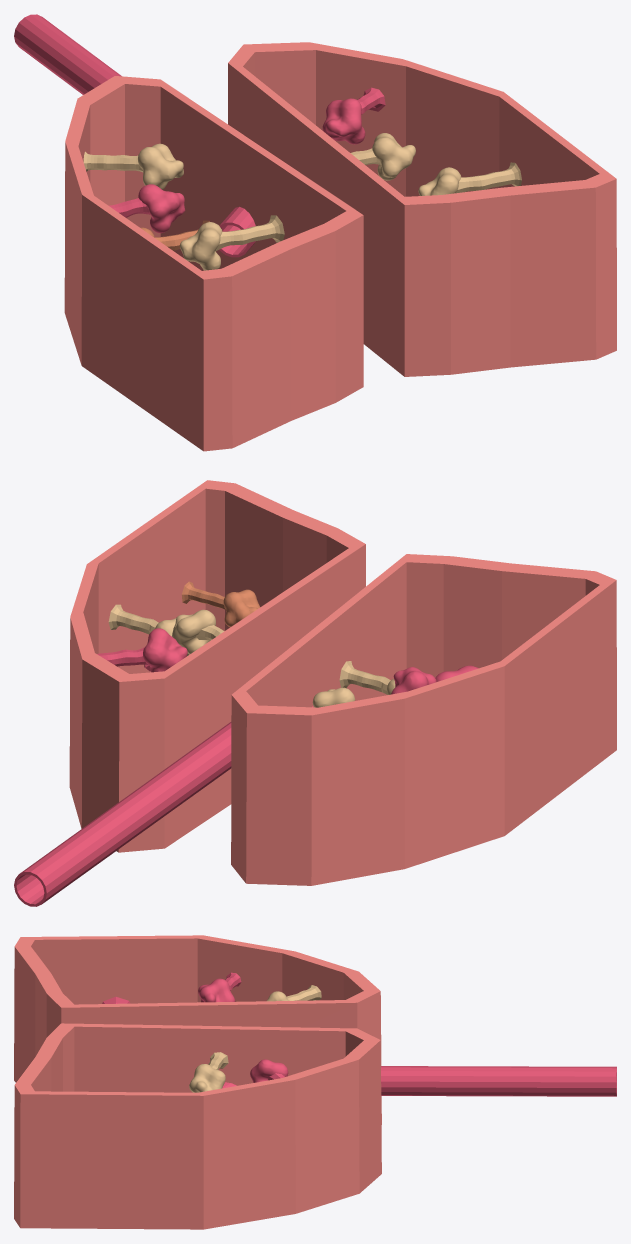
The model's file is Lung.fbx.
The picture shows the model from 3 angles, top to bottom: view 1: azimuth 30°, elevation 25°; view 2: azimuth 150°, elevation 25°; view 3: azimuth 270°, elevation 25°; orthographic projection. The views are drawn at different scales.
Visible parts, largest first — view 1: Plane.001, Plane, Cylinder.002, Cube.006, Cube.005, Cube.002, Cube.007, Cube.001, Cube.003; view 2: Plane, Plane.001, Cylinder.002, Cube.002, Mball.002, Cube.003, Cube.001, Cube.006, Cube.007, Cube.005; view 3: Plane.001, Plane, Cylinder.002, Cube.003, Cube.007, Cube.002, Cube.005.
Part boxes in pixels (x1,y1,x2,y2): Plane.001: [228, 42, 616, 376]; Plane: [64, 76, 363, 451]; Cylinder.002: [14, 14, 255, 257]; Cube.006: [180, 215, 284, 270]; Cube.005: [83, 143, 183, 189]; Cube.002: [322, 87, 385, 144]; Cube.007: [109, 184, 185, 233]; Cube.001: [418, 162, 521, 195]; Cube.003: [350, 133, 415, 180]; Plane: [231, 554, 616, 885]; Plane.001: [69, 480, 365, 852]; Cylinder.002: [14, 705, 313, 906]; Cube.002: [97, 628, 187, 672]; Mball.002: [181, 581, 260, 627]; Cube.003: [172, 609, 224, 654]; Cube.001: [108, 604, 188, 656]; Cube.006: [339, 661, 395, 694]; Cube.007: [391, 667, 436, 694]; Cube.005: [312, 687, 355, 707]; Plane.001: [14, 1023, 381, 1229]; Plane: [14, 935, 381, 1124]; Cylinder.002: [222, 1066, 616, 1096]; Cube.003: [189, 1052, 228, 1092]; Cube.007: [198, 972, 241, 1002]; Cube.002: [250, 1059, 288, 1082]; Cube.005: [266, 985, 321, 1001].
Size of the model in its own units: 1579 by 615 by 2505.
